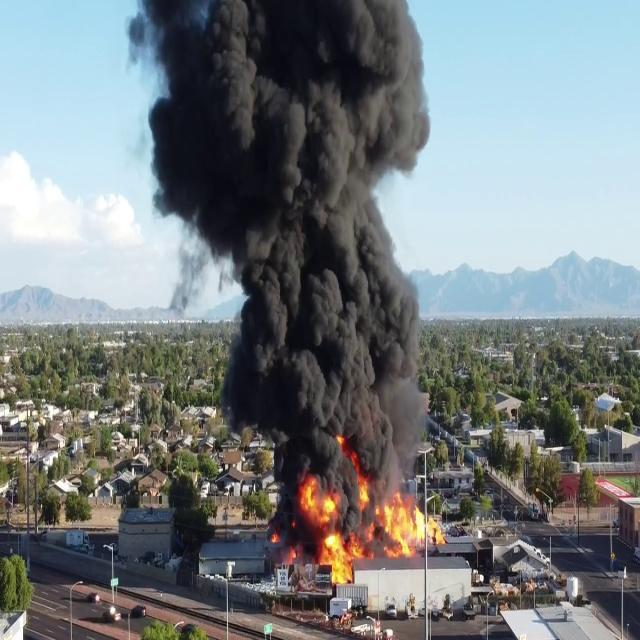Fire: (302, 474, 442, 579)
Smoke: (136, 0, 445, 474)
